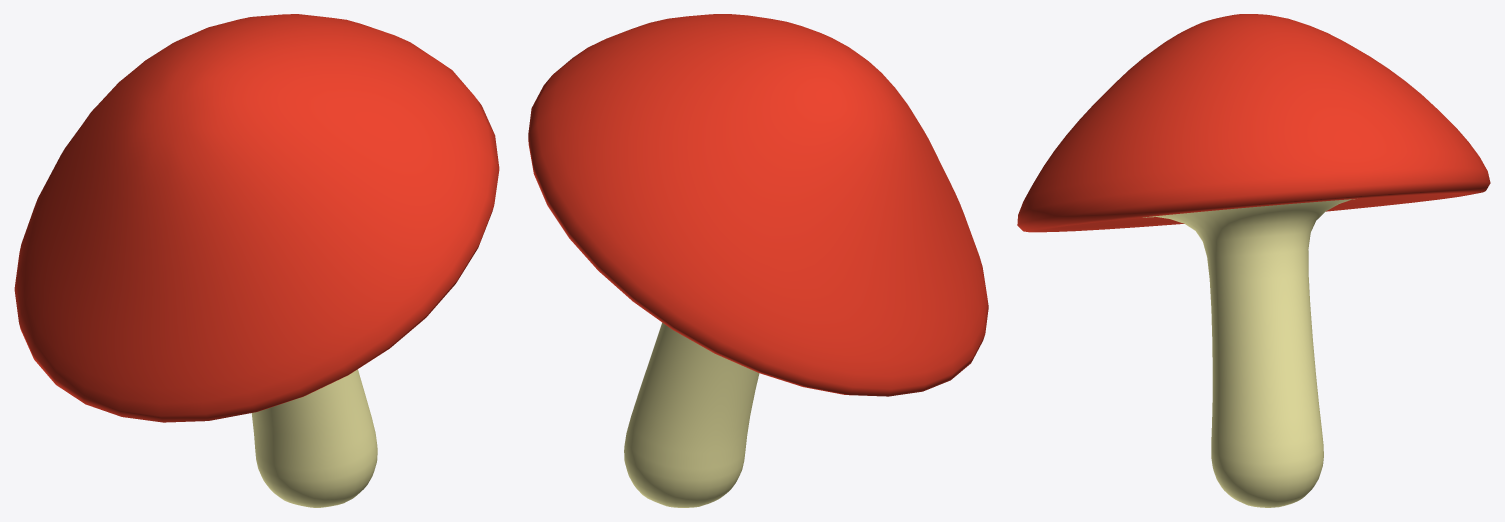
Rendered from cogumassemluz.fbx.
3 renders of one model, left to right at view 1: azimuth 30°, elevation 25°; view 2: azimuth 150°, elevation 25°; view 3: azimuth 270°, elevation 25°, orthographic. The views are drawn at different scales.
Parts seen in each view (by area): view 1: Cylinder; view 2: Cylinder; view 3: Cylinder.
Part boxes in pixels (bbox=[...]): Cylinder: bbox=[14, 14, 499, 507]; Cylinder: bbox=[528, 14, 988, 507]; Cylinder: bbox=[1017, 14, 1490, 507].
Size of the model in its own units: 1059 by 1208 by 1180.
